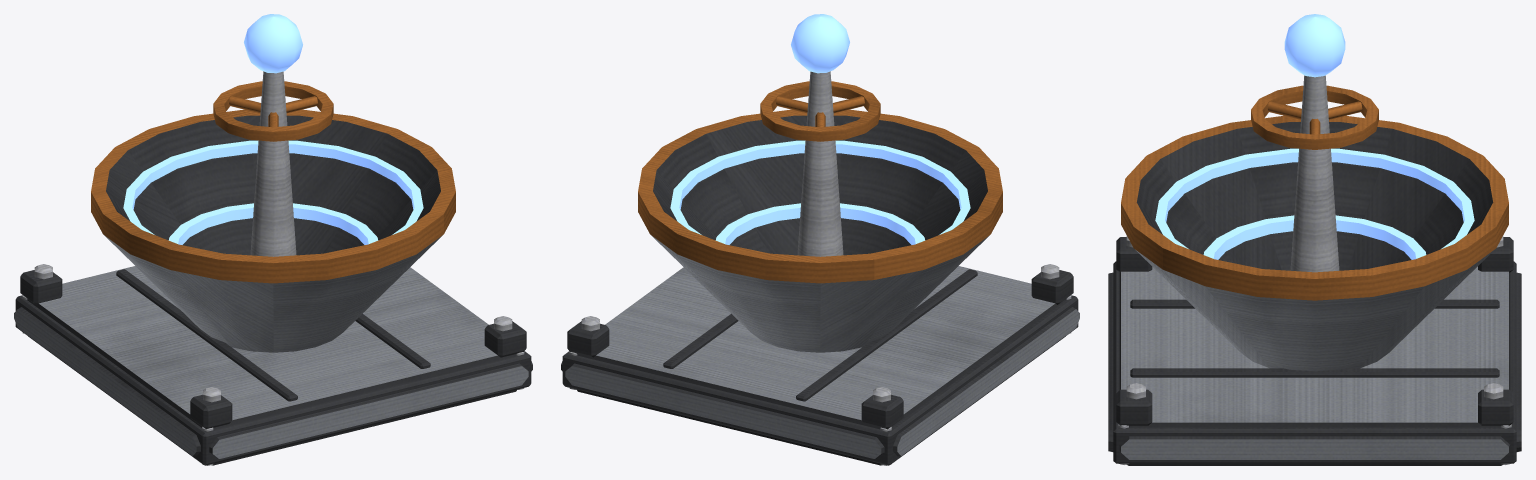
The model's file is R4X_ScannerPulse.glb.
The picture shows the model from 3 angles, left to right: view 1: azimuth 30°, elevation 25°; view 2: azimuth 150°, elevation 25°; view 3: azimuth 270°, elevation 25°; orthographic projection. The views are drawn at different scales.
Parts seen in each view (by area): view 1: R4X_ScannerPulse_Body; view 2: R4X_ScannerPulse_Body; view 3: R4X_ScannerPulse_Body.
Part boxes in pixels (bbox=[...]): R4X_ScannerPulse_Body: bbox=[14, 14, 532, 465]; R4X_ScannerPulse_Body: bbox=[561, 14, 1079, 465]; R4X_ScannerPulse_Body: bbox=[1108, 14, 1521, 465].
Size of the model in its own units: 0.52 by 0.51 by 0.52.
Materials: 5 (4 with a texture image).
